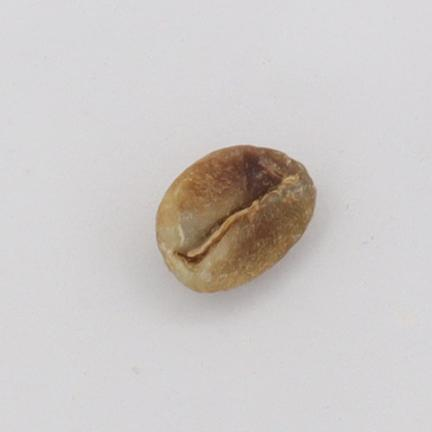partial-black: (157, 145, 315, 292)
